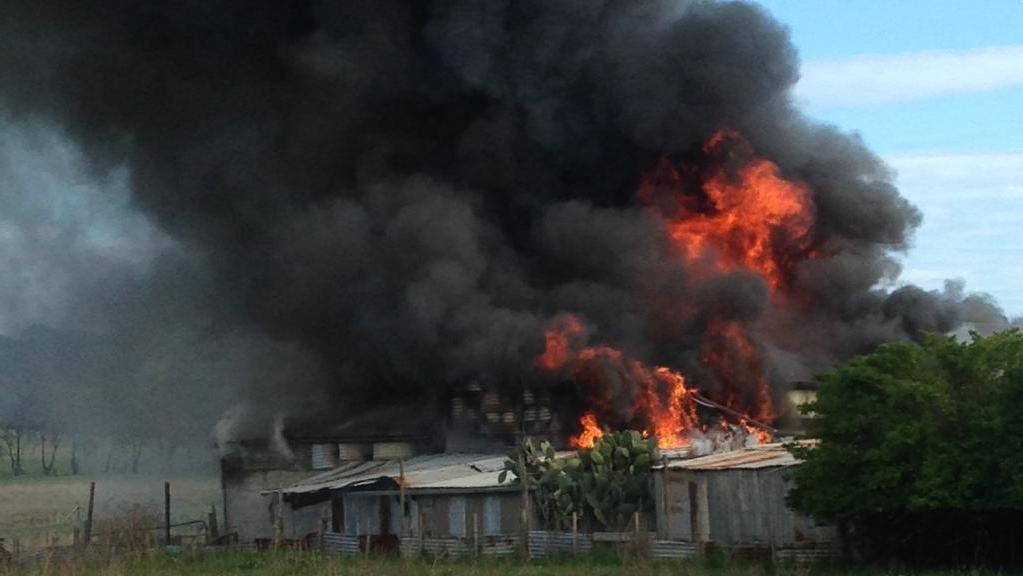Fire: (658, 125, 833, 301), (544, 333, 700, 448), (734, 374, 782, 442), (576, 409, 605, 449)
